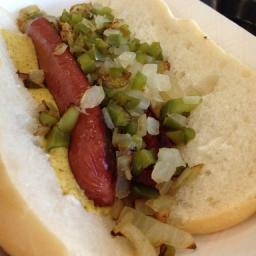hotdog: (18, 14, 114, 206)
